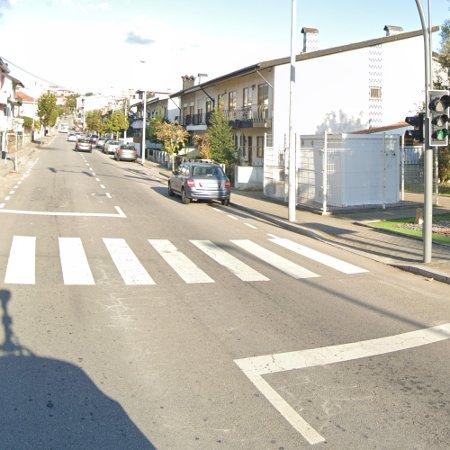crosswalks: (3, 235, 374, 286)
